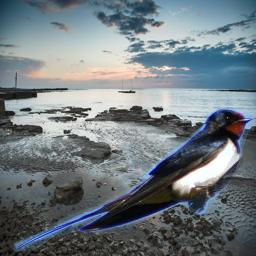Swallow: (12, 108, 254, 251)
